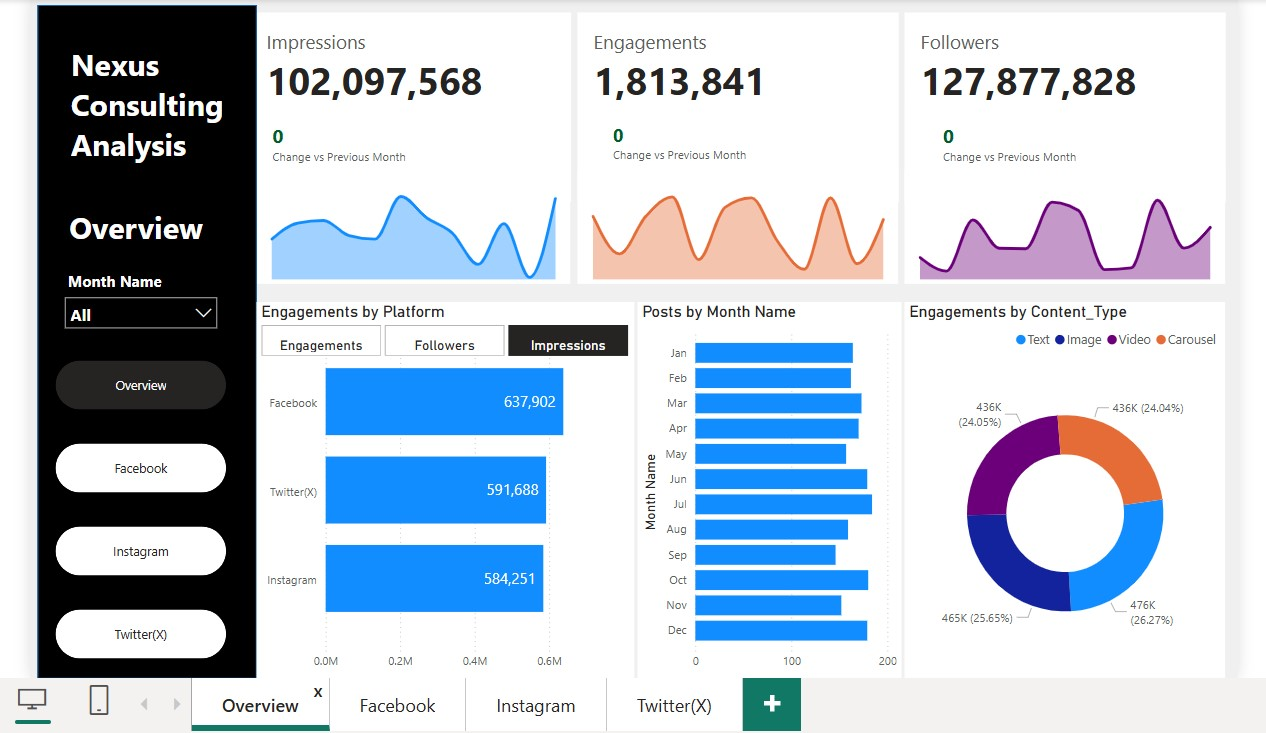

This screenshot's page, from the dashboard's own definition file:
{"tool":"powerbi","page":{"name":"Overview","canvas":[1280,720],"ordinal":0},"visuals":[{"type":"cardVisual","fields":{"Data":["_Measures.Impressions"]},"box":[233.2,14.3,340,200.8],"z":0},{"type":"cardVisual","fields":{"Data":["_Measures.ImpressionsMOM"]},"box":[240,115.3,183.3,66.1],"z":1000},{"type":"cardVisual","fields":{"Data":["_Measures.Engagements"]},"box":[580.1,14.5,340.4,200.4],"z":2000},{"type":"cardVisual","fields":{"Data":["_Measures.EngagementMOM"]},"box":[600.9,115.3,183.3,66.1],"z":3000},{"type":"cardVisual","fields":{"Data":["_Measures.Followers"]},"box":[927.3,14.5,340.4,200.4],"z":4000},{"type":"areaChart","fields":{"Category":["DateTable.Month Name"],"Y":["_Measures.Impressions"]},"box":[240,181.4,332.6,120.9],"z":5000},{"type":"cardVisual","fields":{"Data":["_Measures.FollowersMOM"]},"box":[950.6,115.3,181.4,66.1],"z":6000},{"type":"areaChart","fields":{"Category":["DateTable.Month Name"],"Y":["_Measures.Engagements"]},"box":[580.2,181.4,340.2,120.9],"z":7000},{"type":"shape","box":[7.6,5.7,232.4,714.3],"z":8000},{"type":"areaChart","fields":{"Category":["DateTable.Month Name"],"Y":["_Measures.Followers"]},"box":[927.9,181.4,340.2,120.9],"z":9000},{"type":"donutChart","fields":{"Category":["SMData.Content_Type"],"Y":["_Measures.Engagements"]},"box":[927.9,321.3,340.2,398.7],"z":10000},{"type":"textbox","box":[35.9,215.4,175.7,58.6],"z":11000},{"type":"slicer","fields":{"Values":["DateTable.Month Name"]},"box":[26.5,283.5,181.4,75.6],"z":12000},{"type":"clusteredBarChart","fields":{"Y":["_Measures.Engagements"],"Category":["SMData.Platform"]},"box":[240,321.3,400.6,398.7],"z":13000},{"type":"advancedSlicerVisual","fields":{"Values":["Parameter.Parameter"]},"box":[240,340.2,400.6,43.5],"z":14000},{"type":"pageNavigator","box":[26.5,383.6,181.4,317.5],"z":15000},{"type":"textbox","box":[37.8,41.6,173.9,145.5],"z":16000},{"type":"clusteredBarChart","fields":{"Category":["DateTable.Month Name"],"Y":["_Measures.Posts"]},"box":[644.4,321.3,279.7,398.7],"z":17000}]}

Visuals, with their boxes on the page's 1280x720 design canvas (x1, y1, x2, y2). These are canvas units, not pixel positions in the 1266x733 screenshot, which may show the page scaled, cropped or inside an application window:
cardVisual - _Measures.Impressions: bbox=(233, 14, 573, 215)
cardVisual - _Measures.ImpressionsMOM: bbox=(240, 115, 423, 181)
cardVisual - _Measures.Engagements: bbox=(580, 14, 920, 215)
cardVisual - _Measures.EngagementMOM: bbox=(601, 115, 784, 181)
cardVisual - _Measures.Followers: bbox=(927, 14, 1268, 215)
areaChart - DateTable.Month Name x _Measures.Impressions: bbox=(240, 181, 573, 302)
cardVisual - _Measures.FollowersMOM: bbox=(951, 115, 1132, 181)
areaChart - DateTable.Month Name x _Measures.Engagements: bbox=(580, 181, 920, 302)
shape: bbox=(8, 6, 240, 720)
areaChart - DateTable.Month Name x _Measures.Followers: bbox=(928, 181, 1268, 302)
donutChart - SMData.Content_Type x _Measures.Engagements: bbox=(928, 321, 1268, 720)
textbox: bbox=(36, 215, 212, 274)
slicer - DateTable.Month Name: bbox=(26, 284, 208, 359)
clusteredBarChart - _Measures.Engagements x SMData.Platform: bbox=(240, 321, 641, 720)
advancedSlicerVisual - Parameter.Parameter: bbox=(240, 340, 641, 384)
pageNavigator: bbox=(26, 384, 208, 701)
textbox: bbox=(38, 42, 212, 187)
clusteredBarChart - DateTable.Month Name x _Measures.Posts: bbox=(644, 321, 924, 720)
